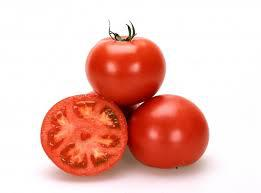tomato: (85, 34, 166, 107), (128, 95, 208, 168)
